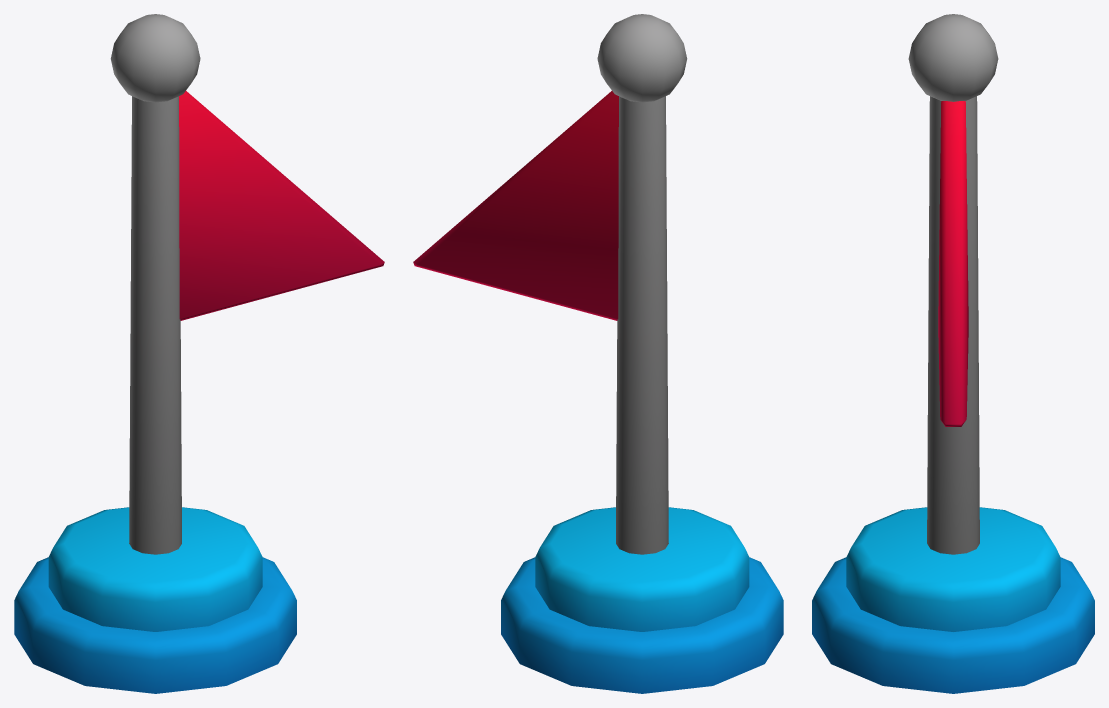
File: Prop_Flag_01.fbx
3 renders of one model, left to right at view 1: azimuth 30°, elevation 25°; view 2: azimuth 150°, elevation 25°; view 3: azimuth 270°, elevation 25°, orthographic.
Visible parts, largest first — view 1: Prop_Flag_01; view 2: Prop_Flag_01; view 3: Prop_Flag_01.
Part boxes in pixels (x1,y1,x2,y2): Prop_Flag_01: (14,14,384,693); Prop_Flag_01: (413,14,783,693); Prop_Flag_01: (812,14,1094,693).
Bounding box in the file's own units: 67.1 × 114 × 47.27.
